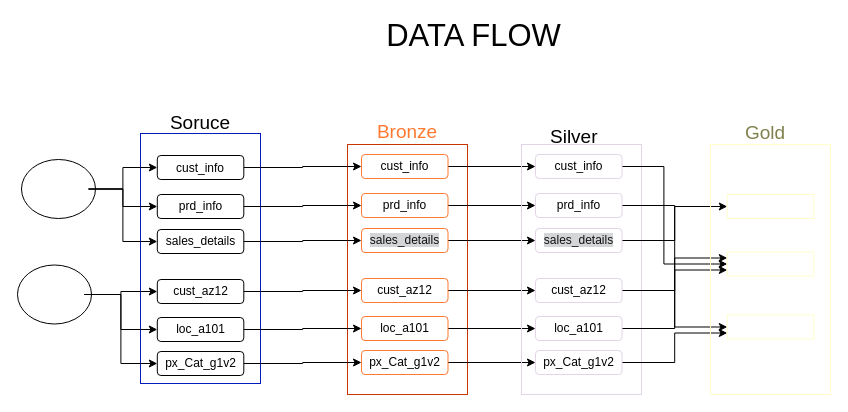
This 848x412 diagram has some shape labels left out. Each missing label, with the centre of its shape:
crm: the point at 58,188
dim_customer: the point at 770,263
dim_product: the point at 770,326
erp: the point at 54,294
fact_sales: the point at 770,206
